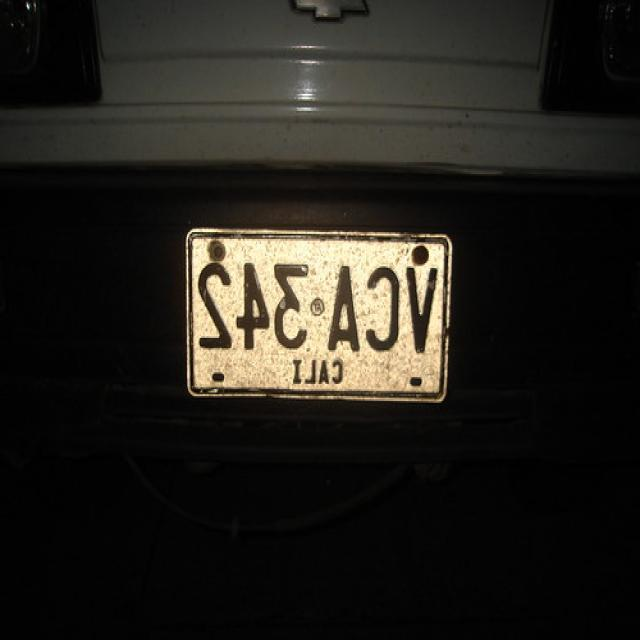placas: (191, 255, 441, 362)
